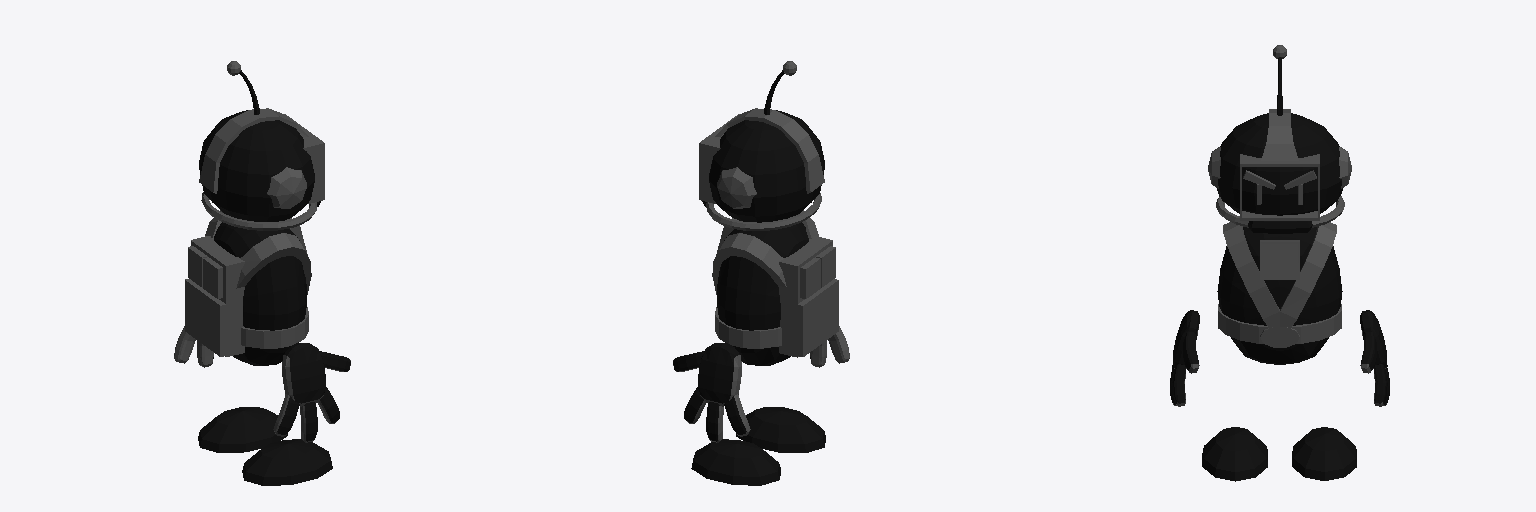
File: Player.obj
The picture shows the model from 3 angles: view 1: azimuth 30°, elevation 25°; view 2: azimuth 150°, elevation 25°; view 3: azimuth 270°, elevation 25°; orthographic projection.
Visible parts, largest first — view 1: BM_BODY, BM_Head, R_Hand, R_Foot, L_Foot, L_Hand; view 2: BM_BODY, BM_Head, L_Hand, L_Foot, R_Foot, R_Hand; view 3: BM_BODY, BM_Head, R_Foot, L_Foot, R_Hand, L_Hand.
Boxes of the visible parts, <box> form: BM_BODY: <box>185,210,311,365</box>; BM_Head: <box>199,108,324,230</box>; R_Hand: <box>273,342,350,442</box>; R_Foot: <box>242,439,332,485</box>; L_Foot: <box>198,407,287,452</box>; L_Hand: <box>174,326,213,367</box>; BM_BODY: <box>712,210,838,365</box>; BM_Head: <box>699,108,824,230</box>; L_Hand: <box>673,342,750,442</box>; L_Foot: <box>691,439,780,485</box>; R_Foot: <box>736,407,825,452</box>; R_Hand: <box>810,326,849,367</box>; BM_BODY: <box>1217,222,1342,364</box>; BM_Head: <box>1208,109,1351,233</box>; R_Foot: <box>1202,427,1267,481</box>; L_Foot: <box>1292,427,1356,480</box>; R_Hand: <box>1170,310,1199,406</box>; L_Hand: <box>1360,310,1389,406</box>.
Size of the model in its own units: 0.4186 by 1.5 by 0.75.